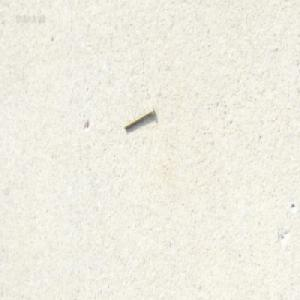Bolt: (123, 105, 154, 130)
